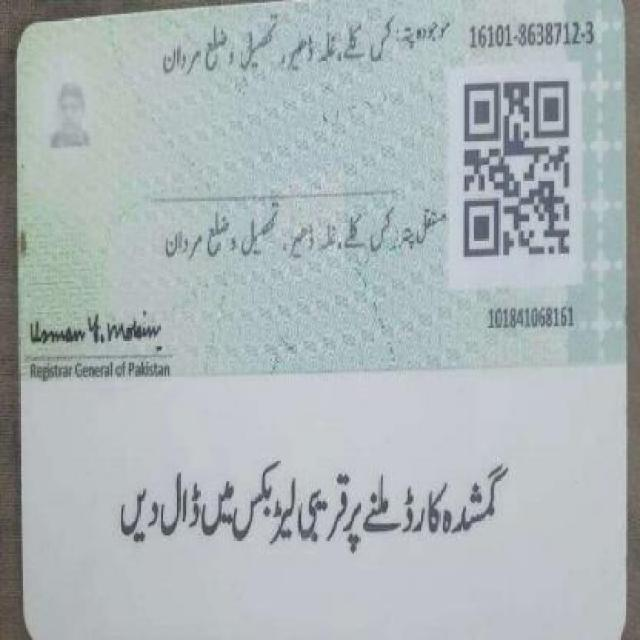Back: (20, 4, 626, 638)
